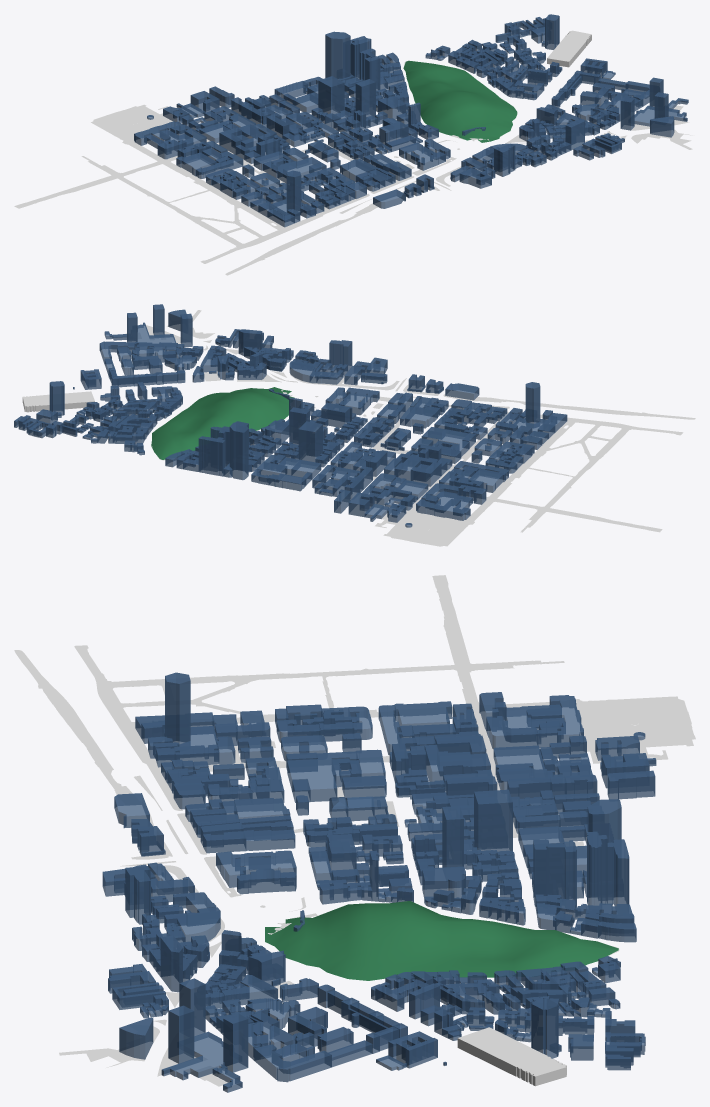
File: site-context.glb
3 renders of one model, top to bottom at view 1: azimuth 30°, elevation 25°; view 2: azimuth 150°, elevation 25°; view 3: azimuth 270°, elevation 25°, orthographic. The views are drawn at different scales.
Parts seen in each view (by area): view 1: map.osm_areas_pedestrian, Terrain, map.osm_buildings.047, map.osm_buildings, map.osm_vegetation, map.osm_buildings.408, map.osm_buildings.553, map.osm_buildings.073, map.osm_buildings.016, map.osm_buildings.327, map.osm_buildings.030, map.osm_buildings.001 (+19 smaller); view 2: map.osm_areas_pedestrian, Terrain, map.osm_buildings.047, map.osm_buildings.542, map.osm_buildings.408, map.osm_buildings, map.osm_buildings.479, map.osm_buildings.016, map.osm_vegetation, map.osm_buildings.553, map.osm_buildings.001, map.osm_buildings.568 (+24 smaller); view 3: Terrain, map.osm_areas_pedestrian, map.osm_buildings, map.osm_buildings.408, map.osm_vegetation, map.osm_buildings.016, map.osm_buildings.327, map.osm_buildings.553, map.osm_buildings.001, map.osm_buildings.023, map.osm_buildings.250, map.osm_buildings.542 (+42 smaller).
Boxes of the visible parts, box(x1,y1,x2,y2) form: map.osm_areas_pedestrian: box(14, 104, 558, 275); Terrain: box(403, 60, 517, 142); map.osm_buildings.047: box(325, 31, 350, 79); map.osm_buildings: box(547, 30, 591, 67); map.osm_vegetation: box(113, 98, 692, 213); map.osm_buildings.408: box(318, 76, 344, 116); map.osm_buildings.553: box(399, 142, 445, 170); map.osm_buildings.073: box(355, 79, 375, 116); map.osm_buildings.016: box(262, 157, 320, 178); map.osm_buildings.327: box(634, 98, 688, 126); map.osm_buildings.030: box(494, 143, 515, 176); map.osm_buildings.001: box(286, 170, 301, 211); map.osm_areas_pedestrian: box(204, 371, 695, 546); Terrain: box(151, 387, 294, 459); map.osm_buildings.047: box(229, 422, 248, 480); map.osm_buildings.542: box(198, 436, 225, 476); map.osm_buildings.408: box(298, 421, 322, 462); map.osm_buildings: box(22, 391, 94, 412); map.osm_buildings.479: box(416, 498, 470, 520); map.osm_buildings.016: box(421, 429, 469, 457); map.osm_vegetation: box(125, 310, 509, 538); map.osm_buildings.553: box(339, 387, 379, 415); map.osm_buildings.001: box(525, 382, 540, 427); map.osm_buildings.568: box(132, 342, 177, 362); Terrain: box(265, 901, 618, 980); map.osm_areas_pedestrian: box(14, 575, 695, 997); map.osm_buildings: box(457, 1027, 566, 1086); map.osm_buildings.408: box(474, 789, 512, 851); map.osm_vegetation: box(59, 712, 670, 1086); map.osm_buildings.016: box(287, 751, 358, 801); map.osm_buildings.327: box(161, 1031, 242, 1092); map.osm_buildings.553: box(216, 850, 296, 887); map.osm_buildings.001: box(165, 672, 190, 745); map.osm_buildings.023: box(254, 1044, 331, 1082); map.osm_buildings.250: box(546, 840, 576, 907); map.osm_buildings.542: box(607, 839, 629, 913).
Bounding box in the file's own units: 1527 × 114 × 850.
